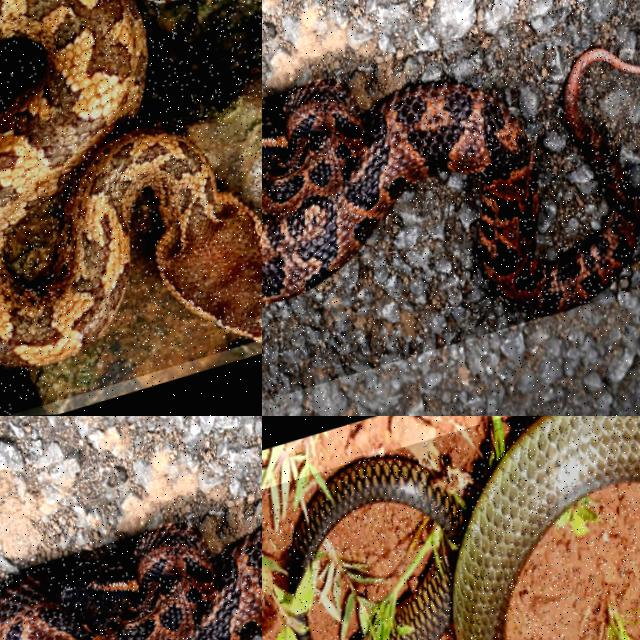Naja kaouthia: (289, 416, 639, 639)
Ovophis monticola: (262, 47, 639, 314), (0, 0, 261, 366), (0, 525, 261, 639)
